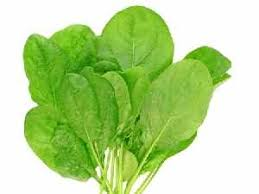spinach: (105, 9, 208, 136), (27, 37, 118, 147)
